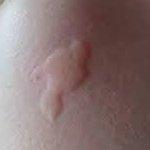Mosquito: (18, 28, 101, 122)
